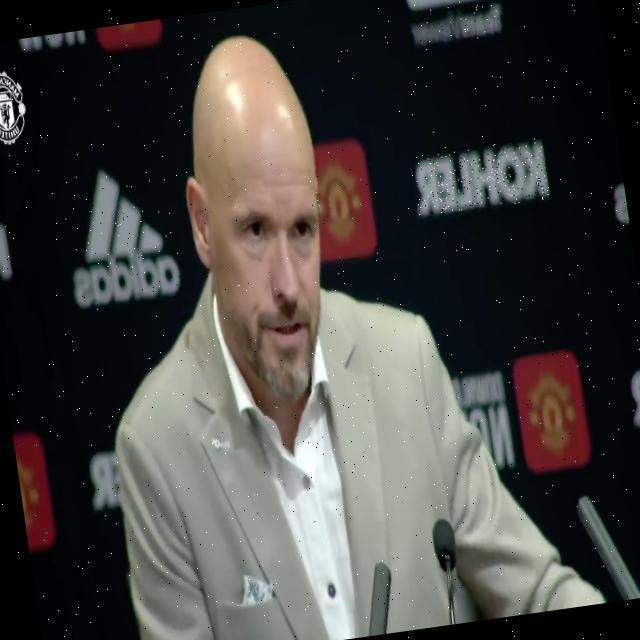Adidas: (58, 162, 184, 309)
Kohler: (411, 138, 550, 218)
TeamViewer: (405, 0, 504, 47)
